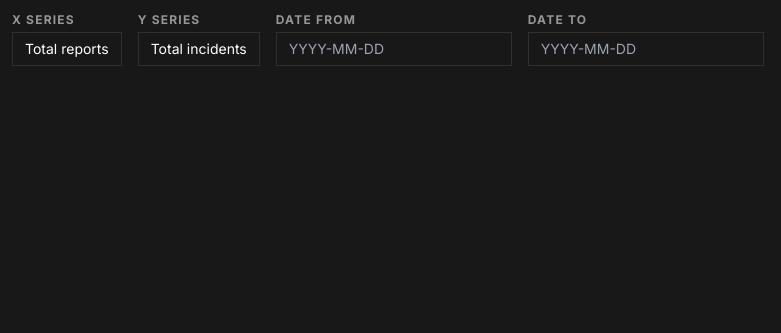
CorrelationFilters — Q1 catalog grouping (C6 lock) › nests options under the header matching their schema root field (NOT id prefix)
The width and height of the screenshot is (781, 333).
Step 1. Click the button with test id "correlation-filter-y" → coordinates (199, 49), box left=138, top=32, right=260, bottom=66
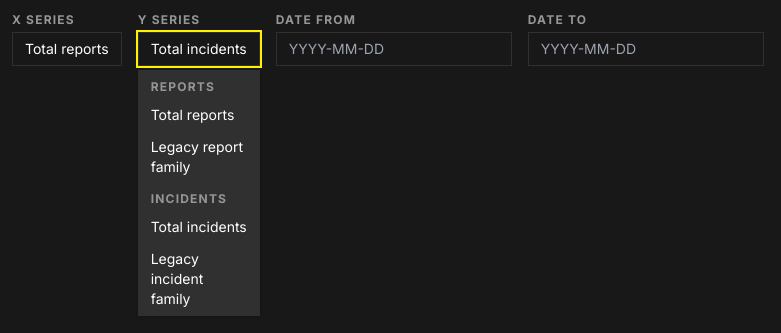
Now the button with test id "correlation-filter-y-option-reports.total" is shown, box left=139, top=99, right=259, bottom=131
Now the button with test id "correlation-filter-y-option-incidents.legacyReportFamily" is shown, box left=139, top=131, right=259, bottom=183
Now the button with test id "correlation-filter-y-option-incidents.total" is shown, box left=139, top=211, right=259, bottom=243
